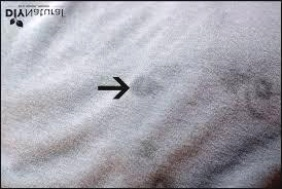oil: (129, 60, 182, 102)
